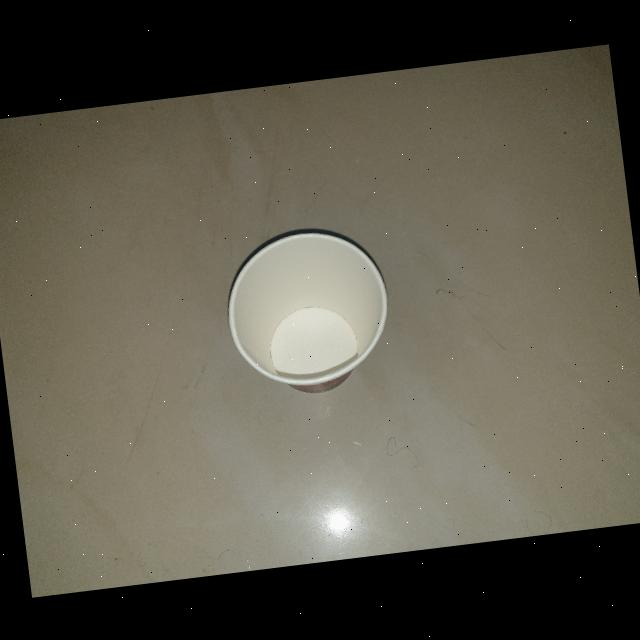trash: (215, 216, 398, 405)
